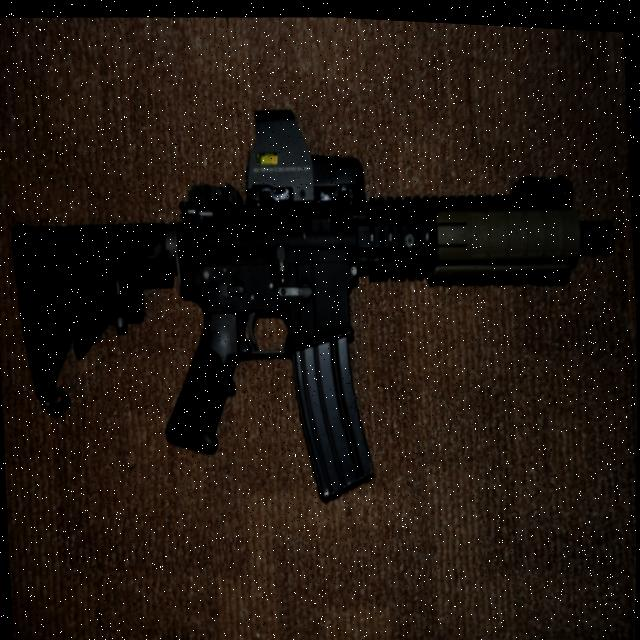firearm: (2, 75, 630, 529)
